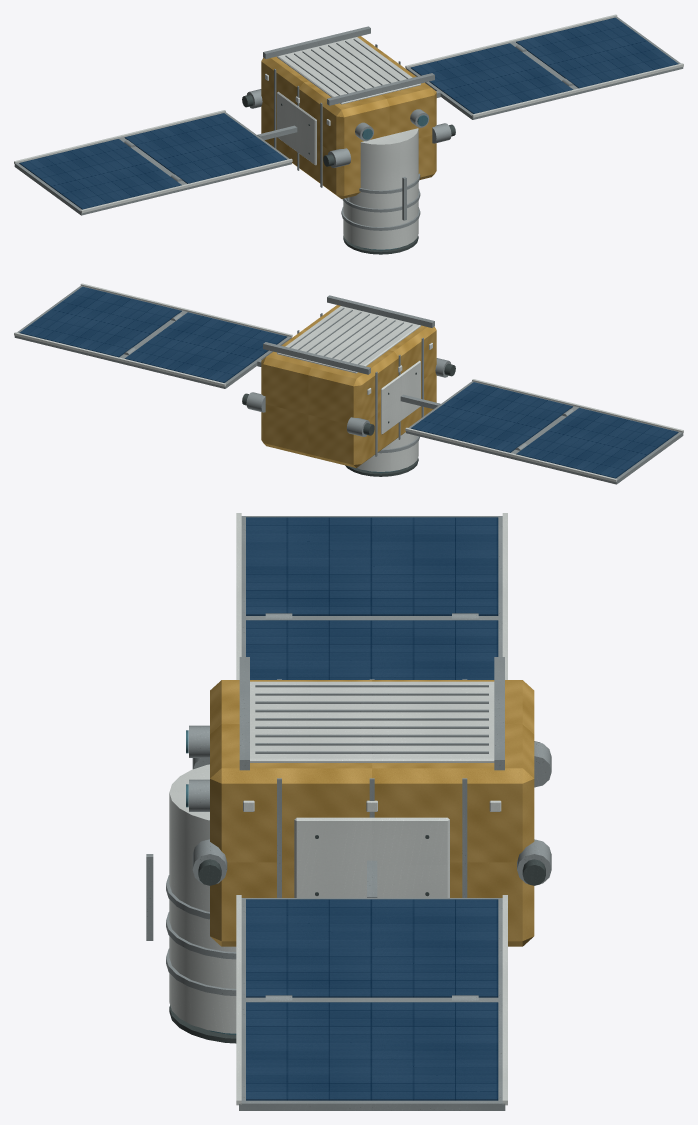
File: OpticalSatelliteRig.fbx
The picture shows the model from 3 angles, top to bottom: view 1: azimuth 30°, elevation 25°; view 2: azimuth 150°, elevation 25°; view 3: azimuth 270°, elevation 25°; orthographic projection. The views are drawn at different scales.
Parts seen in each view (by area): view 1: Bus_RigMesh, SolarPort_RigMesh, SolarStarboard_RigMesh; view 2: Bus_RigMesh, SolarPort_RigMesh, SolarStarboard_RigMesh; view 3: Bus_RigMesh, SolarStarboard_RigMesh, SolarPort_RigMesh.
Part boxes in pixels (x1=…): Bus_RigMesh: x1=242, y1=26, x2=455, y2=254; SolarPort_RigMesh: x1=14, y1=110, x2=297, y2=215; SolarStarboard_RigMesh: x1=405, y1=14, x2=683, y2=119; Bus_RigMesh: x1=242, y1=295, x2=455, y2=476; SolarPort_RigMesh: x1=400, y1=379, x2=683, y2=484; SolarStarboard_RigMesh: x1=14, y1=283, x2=292, y2=388; Bus_RigMesh: x1=146, y1=657, x2=551, y2=1043; SolarStarboard_RigMesh: x1=236, y1=860, x2=507, y2=1110; SolarPort_RigMesh: x1=236, y1=513, x2=507, y2=679.
Size of the model in its own units: 1200 by 289 by 350.
